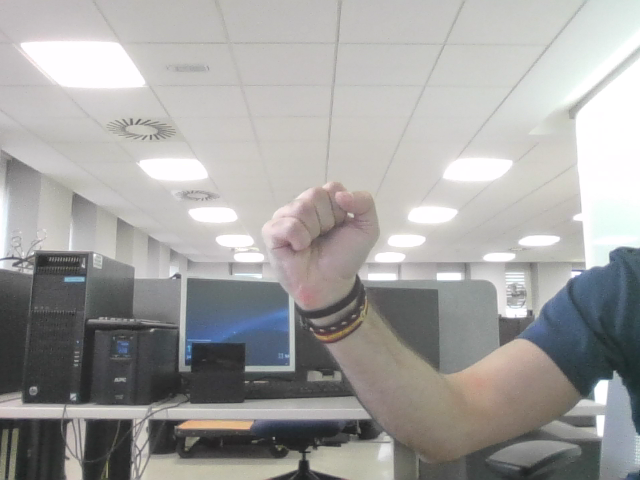Puño: (276, 186, 363, 260)
